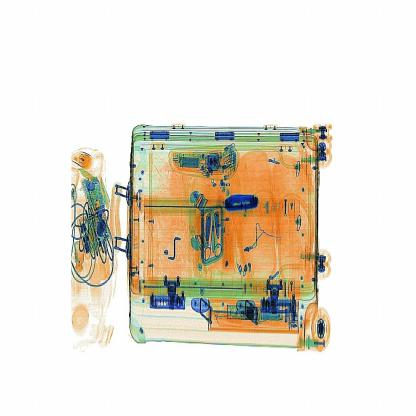scissors: (219, 186, 266, 216)
